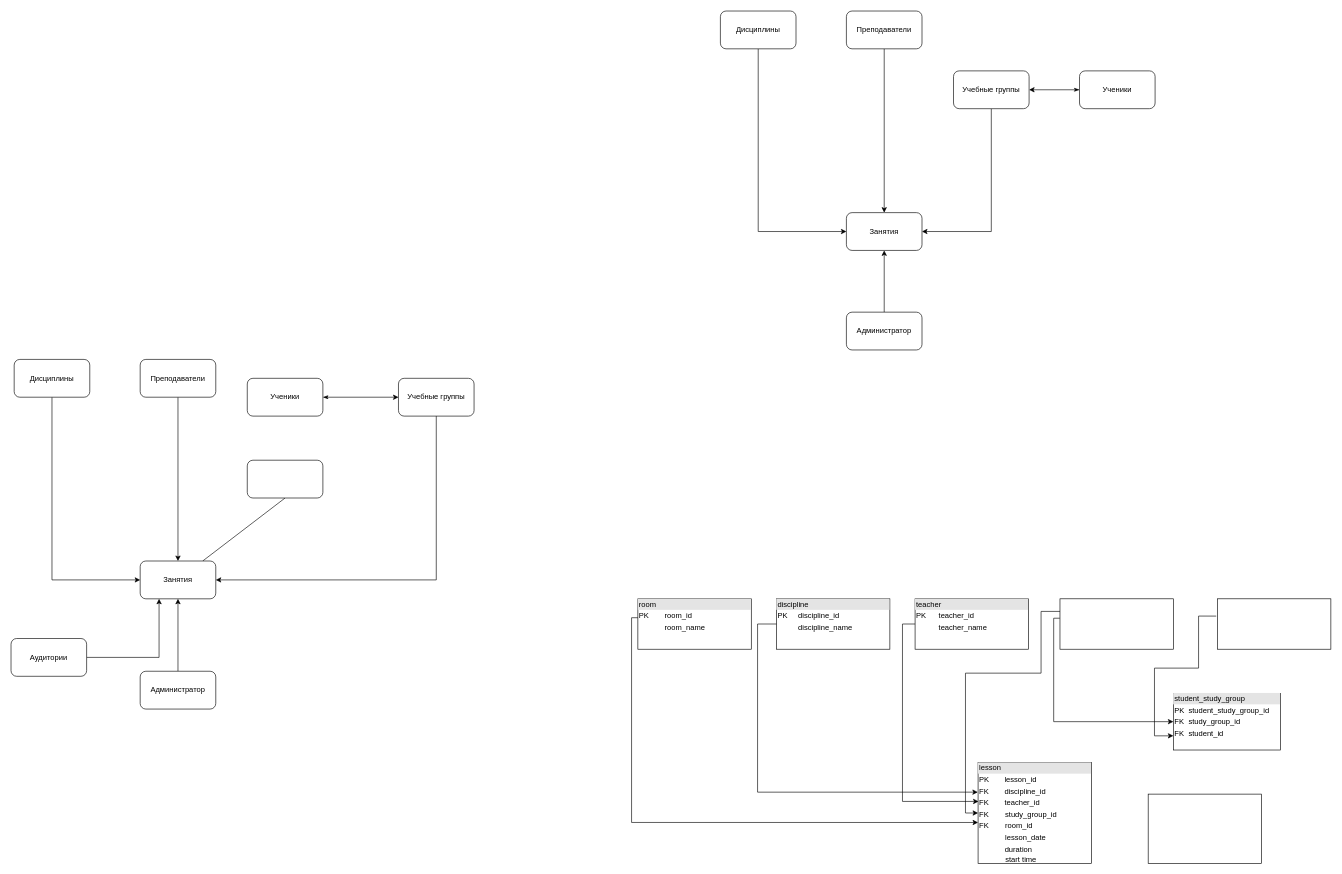
Image size: 1342x874. Some labels were removed from this diagram. Each missing label, with the box of its shape:
hometask PK hometask_id description attachments max_score date test: (1148, 793, 1262, 863)
student PK student_id student_name: (1217, 598, 1331, 649)
study_group PK study_group_id study_group_name: (1059, 598, 1173, 649)
Домашние задания: (247, 460, 323, 498)
